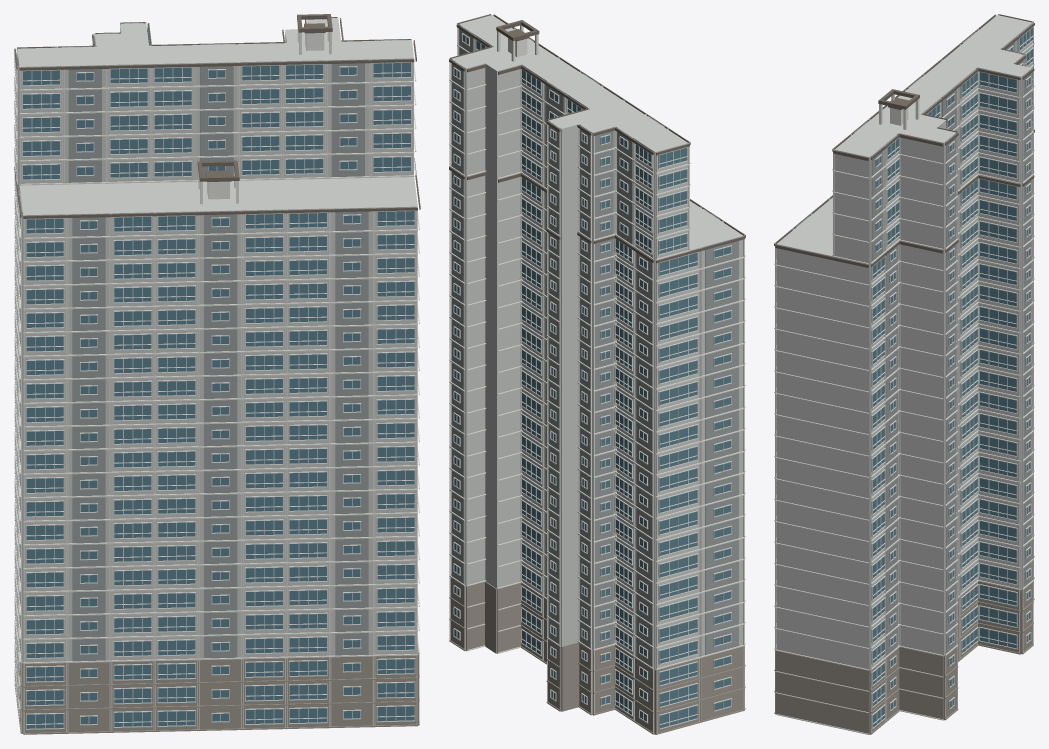
The model's file is bespoke-banpo-xi-135.glb.
3 views of the same model, side by side, from view 1: azimuth 30°, elevation 25°; view 2: azimuth 150°, elevation 25°; view 3: azimuth 270°, elevation 25° (orthographic). The views are drawn at different scales.
Parts seen in each view (by area): view 1: editable_BX135_blue_grey_broad_glazing, editable_BX135_pale_silver_limestone, editable_BX135_white_window_frames, editable_BX135_grey_service_core, editable_BX135_ivory_course_bands, editable_BX135_warm_ground_stone, editable_BX135_dark_coping; view 2: editable_BX135_pale_silver_limestone, editable_BX135_grey_service_core, editable_BX135_blue_grey_broad_glazing, editable_BX135_ivory_course_bands, editable_BX135_white_window_frames, editable_BX135_warm_ground_stone, editable_BX135_dark_coping; view 3: editable_BX135_pale_silver_limestone, editable_BX135_blue_grey_broad_glazing, editable_BX135_ivory_course_bands, editable_BX135_white_window_frames, editable_BX135_warm_ground_stone, editable_BX135_grey_service_core, editable_BX135_dark_coping.
Boxes of the visible parts, x1,y1,x2,y2 form: editable_BX135_blue_grey_broad_glazing: (16, 27, 414, 728); editable_BX135_pale_silver_limestone: (17, 18, 417, 733); editable_BX135_white_window_frames: (14, 43, 415, 729); editable_BX135_grey_service_core: (19, 17, 407, 661); editable_BX135_ivory_course_bands: (14, 17, 419, 734); editable_BX135_warm_ground_stone: (14, 637, 419, 734); editable_BX135_dark_coping: (14, 14, 420, 218); editable_BX135_pale_silver_limestone: (451, 15, 743, 733); editable_BX135_grey_service_core: (452, 25, 738, 667); editable_BX135_blue_grey_broad_glazing: (454, 35, 730, 728); editable_BX135_ivory_course_bands: (449, 14, 745, 733); editable_BX135_white_window_frames: (453, 33, 731, 729); editable_BX135_warm_ground_stone: (449, 578, 745, 734); editable_BX135_dark_coping: (449, 14, 745, 263); editable_BX135_pale_silver_limestone: (776, 15, 1032, 734); editable_BX135_blue_grey_broad_glazing: (871, 28, 1032, 728); editable_BX135_ivory_course_bands: (774, 14, 1034, 734); editable_BX135_white_window_frames: (776, 26, 1033, 729); editable_BX135_warm_ground_stone: (774, 540, 1034, 734); editable_BX135_grey_service_core: (795, 31, 1031, 655); editable_BX135_dark_coping: (774, 14, 1034, 267).
Bounding box in the file's own units: 42.36 × 75.7 × 29.76.
